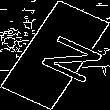N_NW: (16, 25, 94, 85)
